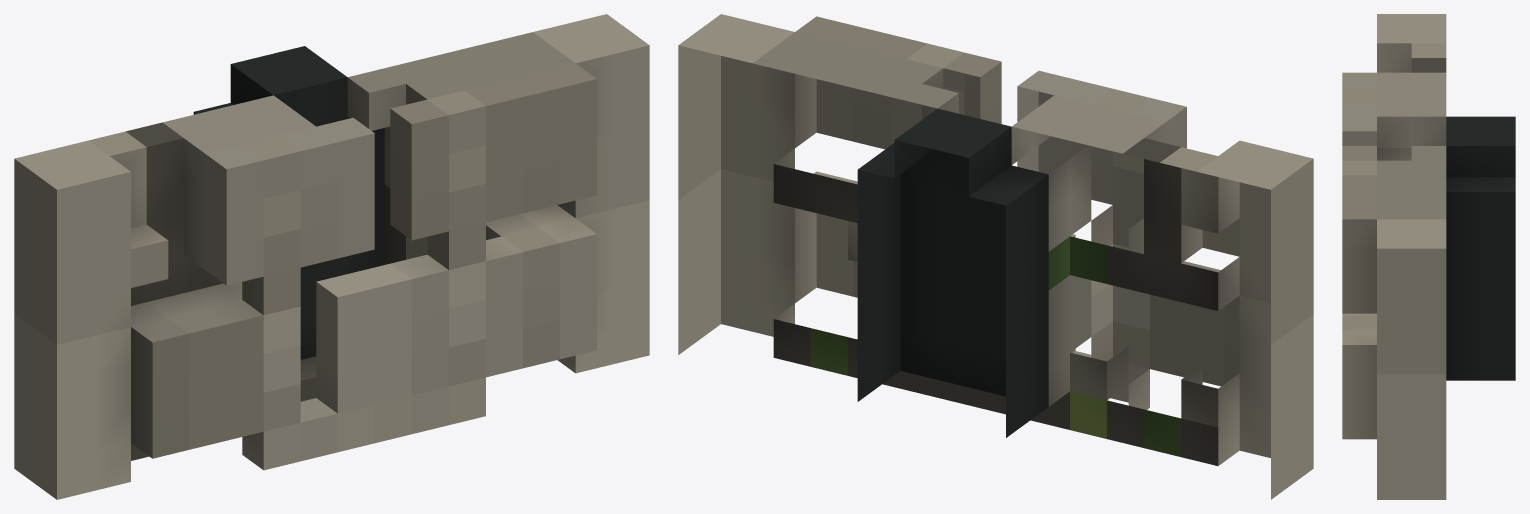
Rendered from wall_window_0.glb.
3 views of the same model, side by side, from view 1: azimuth 30°, elevation 25°; view 2: azimuth 150°, elevation 25°; view 3: azimuth 270°, elevation 25° (orthographic). The views are drawn at different scales.
Visible parts, largest first — view 1: wall_window_0; view 2: wall_window_0; view 3: wall_window_0.
Part boxes in pixels (x1=…): wall_window_0: x1=14, y1=14, x2=649, y2=499; wall_window_0: x1=678, y1=14, x2=1313, y2=499; wall_window_0: x1=1342, y1=14, x2=1515, y2=499.
Size of the model in its own units: 1 by 0.5 by 0.3125.
